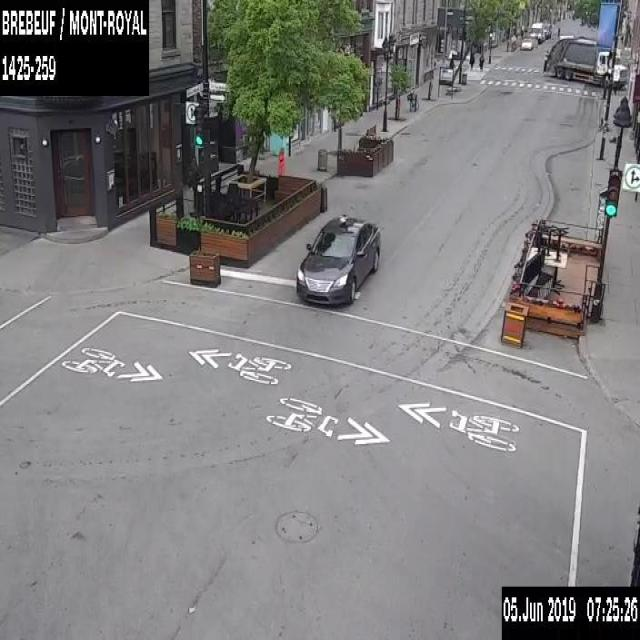construction: (277, 145, 284, 175)
pedestrian: (477, 54, 485, 70), (448, 49, 455, 67), (467, 51, 474, 68)
vehicle: (295, 213, 380, 308), (543, 32, 629, 87), (529, 18, 550, 41), (519, 37, 535, 50)
